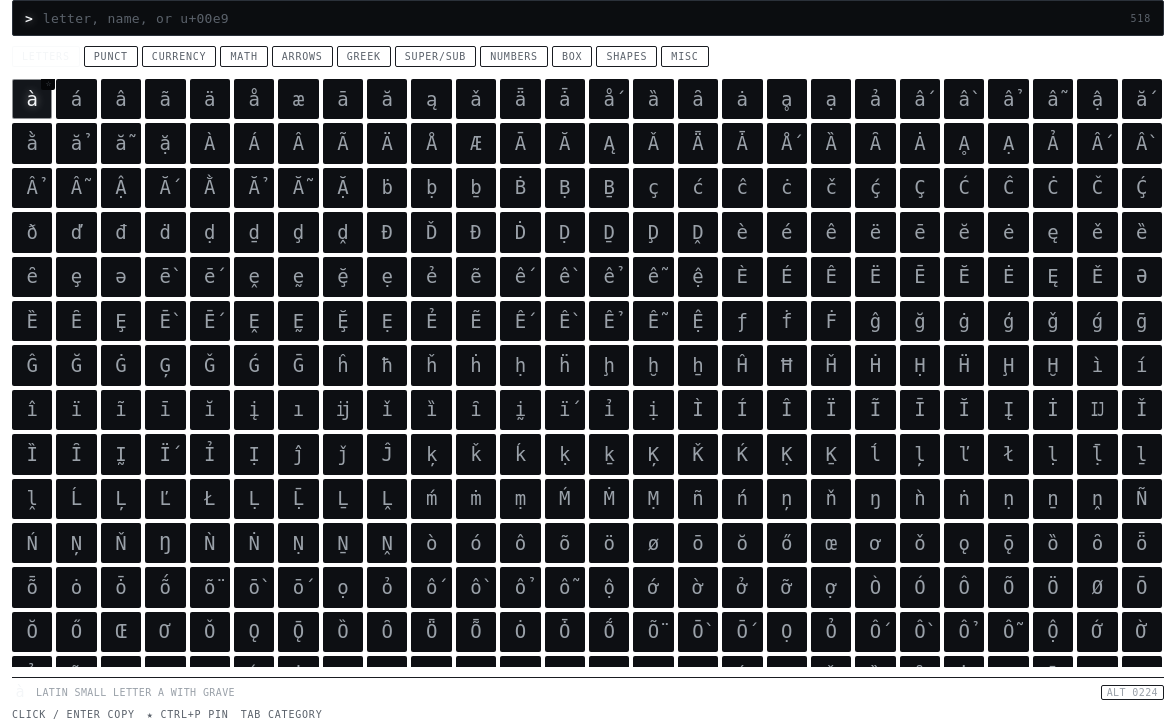
Test case: GlyphsPanel › says so when nothing matches
The width and height of the screenshot is (1176, 720).
Type "zzzznotathing" into the field named "Search characters". click: (582, 18)
box: x1=41 y1=10 x2=1122 y2=26
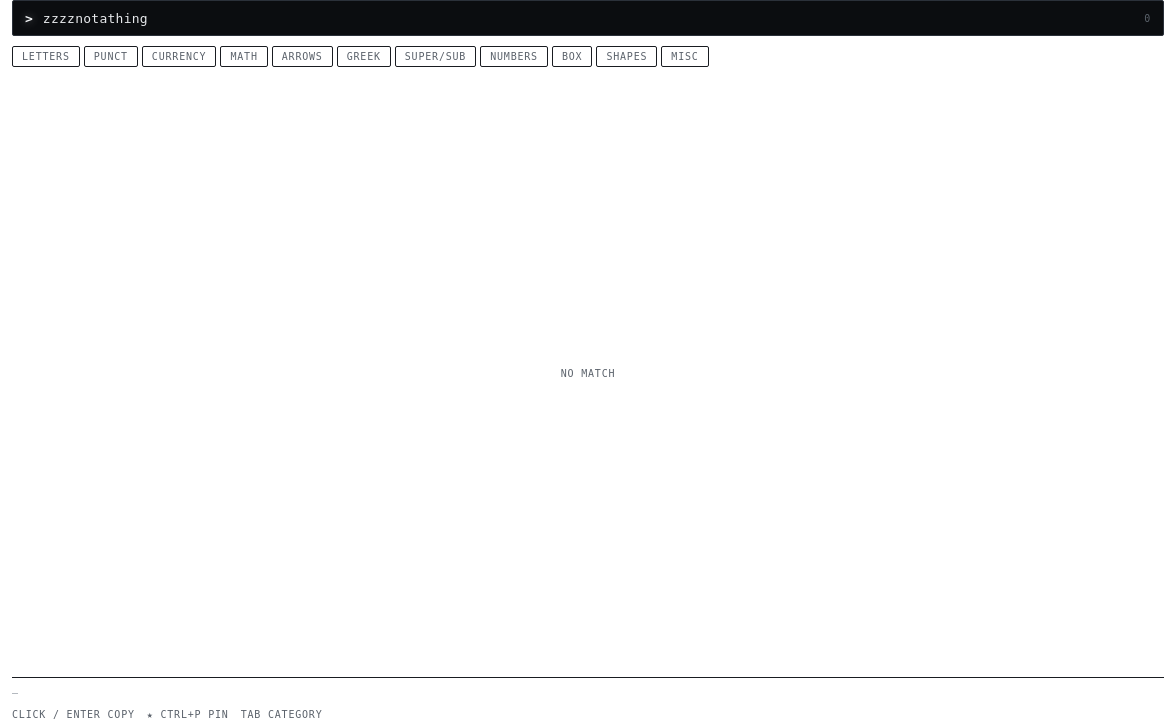
expect the text "NO MATCH" is shown: met, box x1=561 y1=368 x2=615 y2=378
expect no options are shown: met
